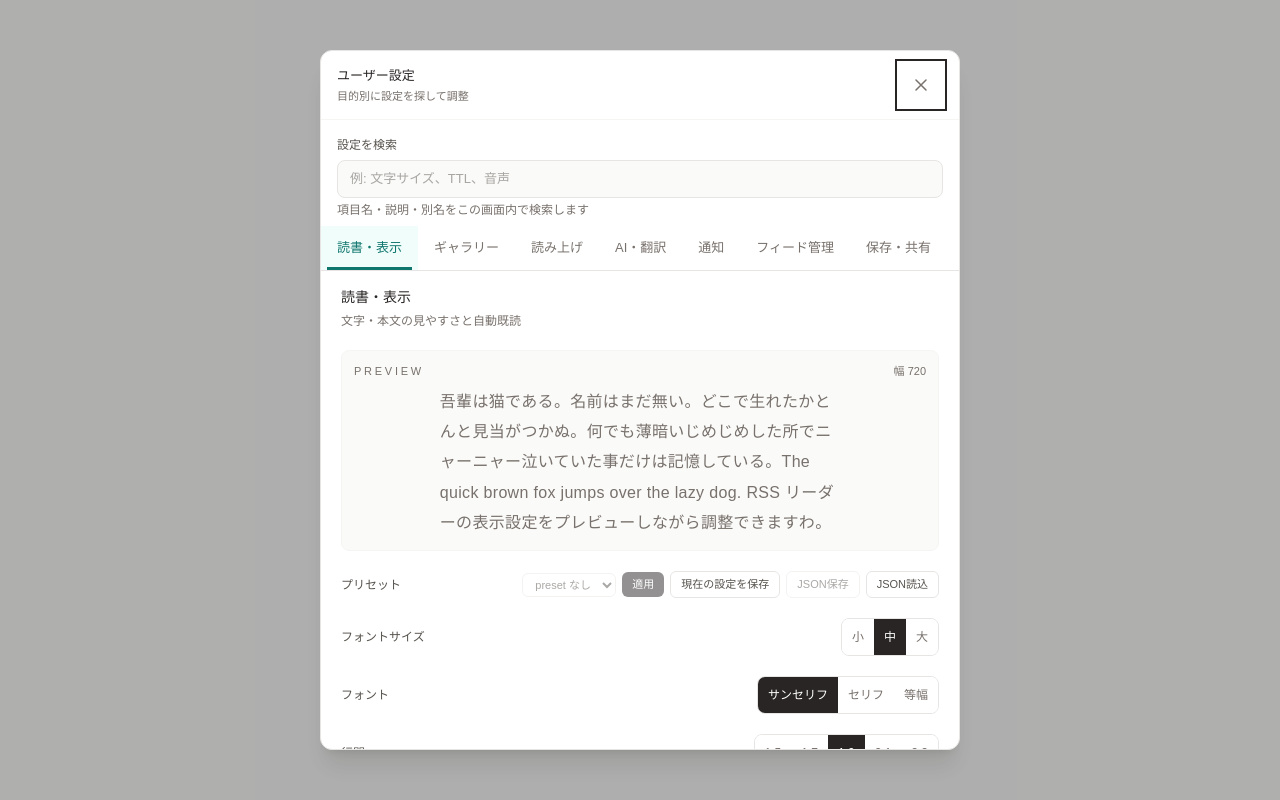
purpose-based settings navigation › explains a disabled search target without enabling or changing it
Type "Workers AI モデル" into the search field labelled "設定を検索".
click(640, 179); type("Workers AI モデル")  # box left=337, top=160, right=943, bottom=198
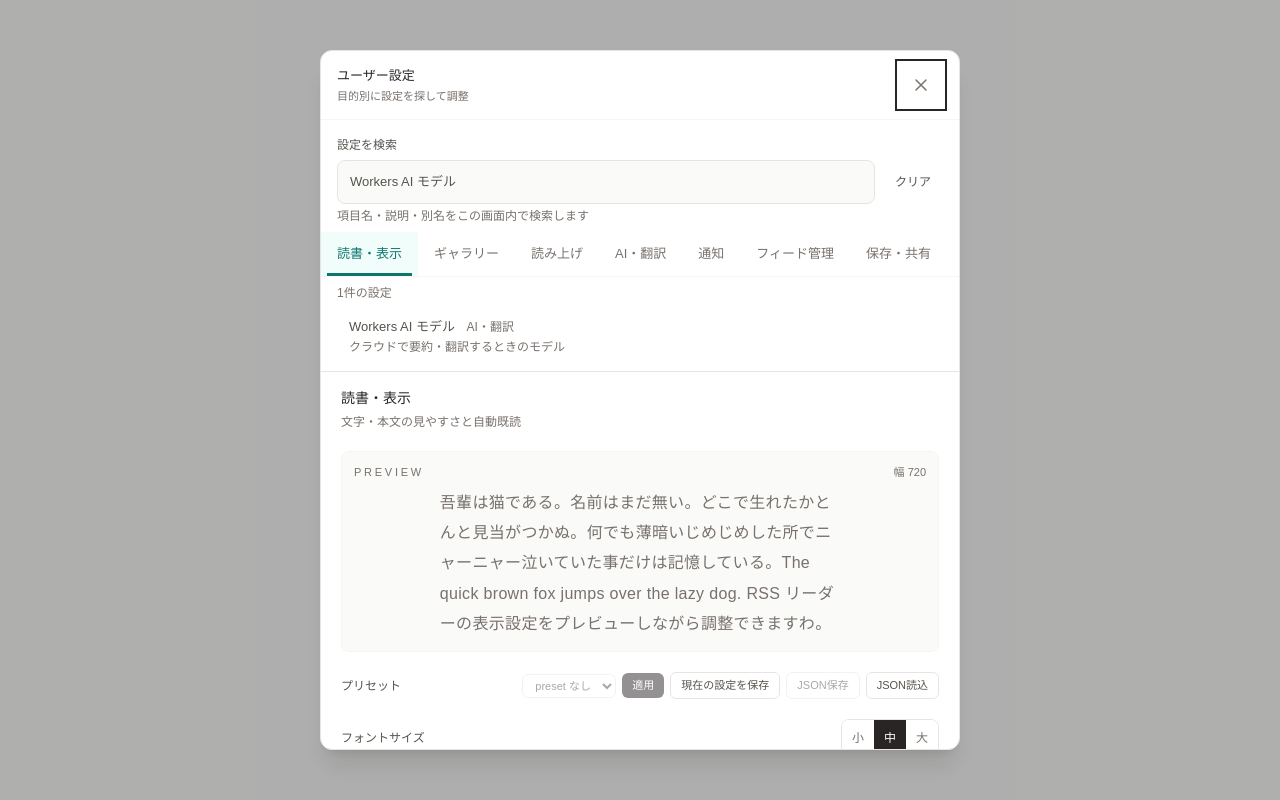
Click the button "Workers AI モデル AI・翻訳 クラウドで要約・翻訳するときのモデル".
click(402, 326)  # box left=337, top=309, right=943, bottom=362
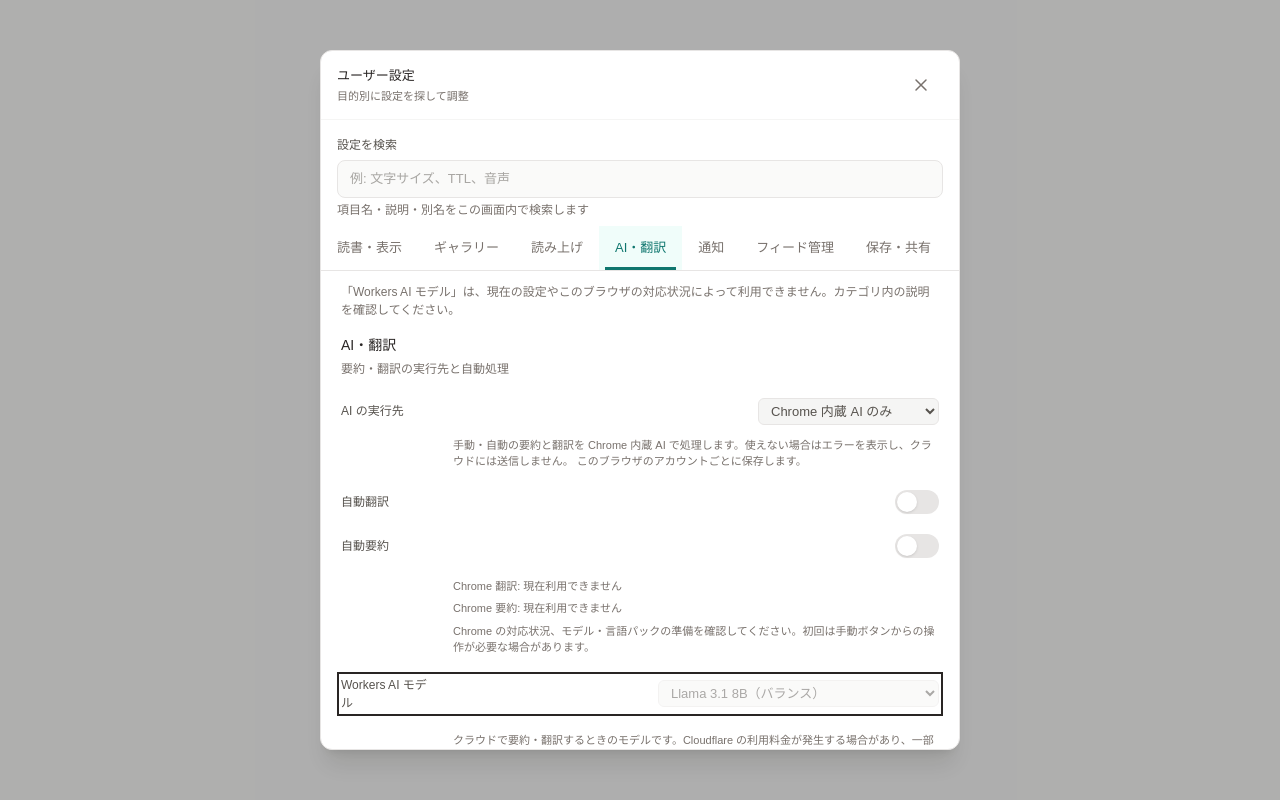
Result: the dropdown named "Workers AI モデル" is disabled at left=658, top=680, right=939, bottom=707
Result: the message shows "現在の設定やこのブラウザ" at left=341, top=284, right=930, bottom=316
